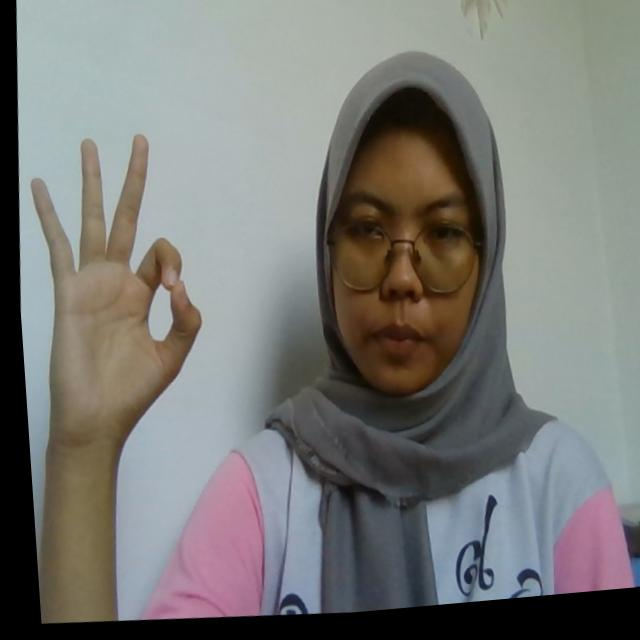F: (12, 124, 216, 452)
